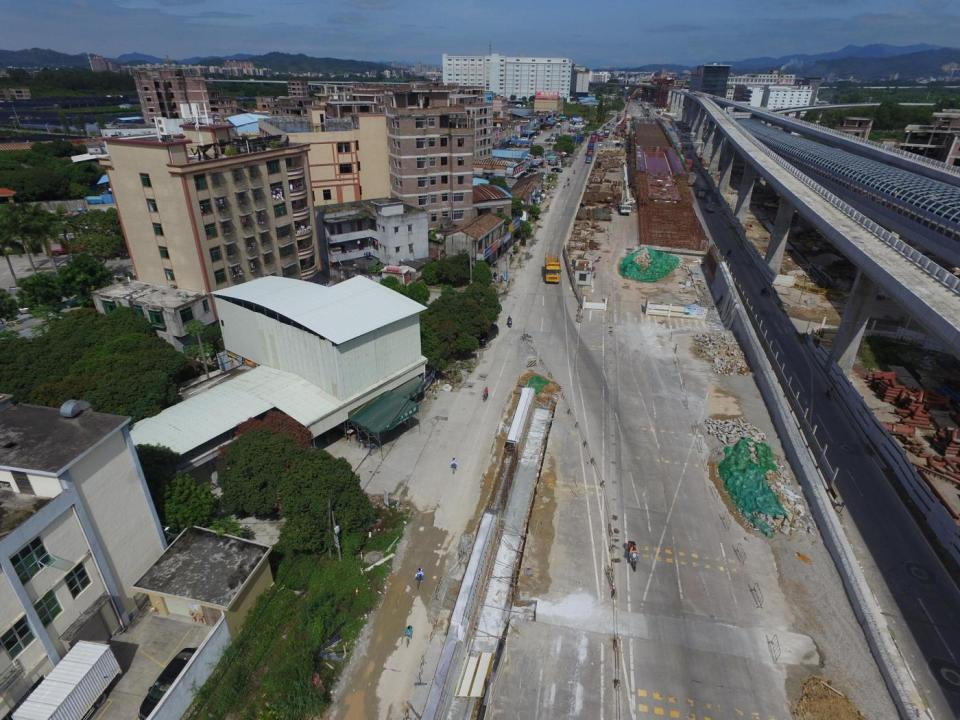car: (551, 167, 562, 172), (615, 142, 623, 148), (598, 142, 602, 147)
truck: (543, 251, 562, 284), (696, 188, 706, 199), (587, 142, 593, 155), (706, 203, 714, 212), (590, 133, 597, 143), (603, 128, 610, 138), (585, 155, 592, 163), (599, 133, 604, 141)
